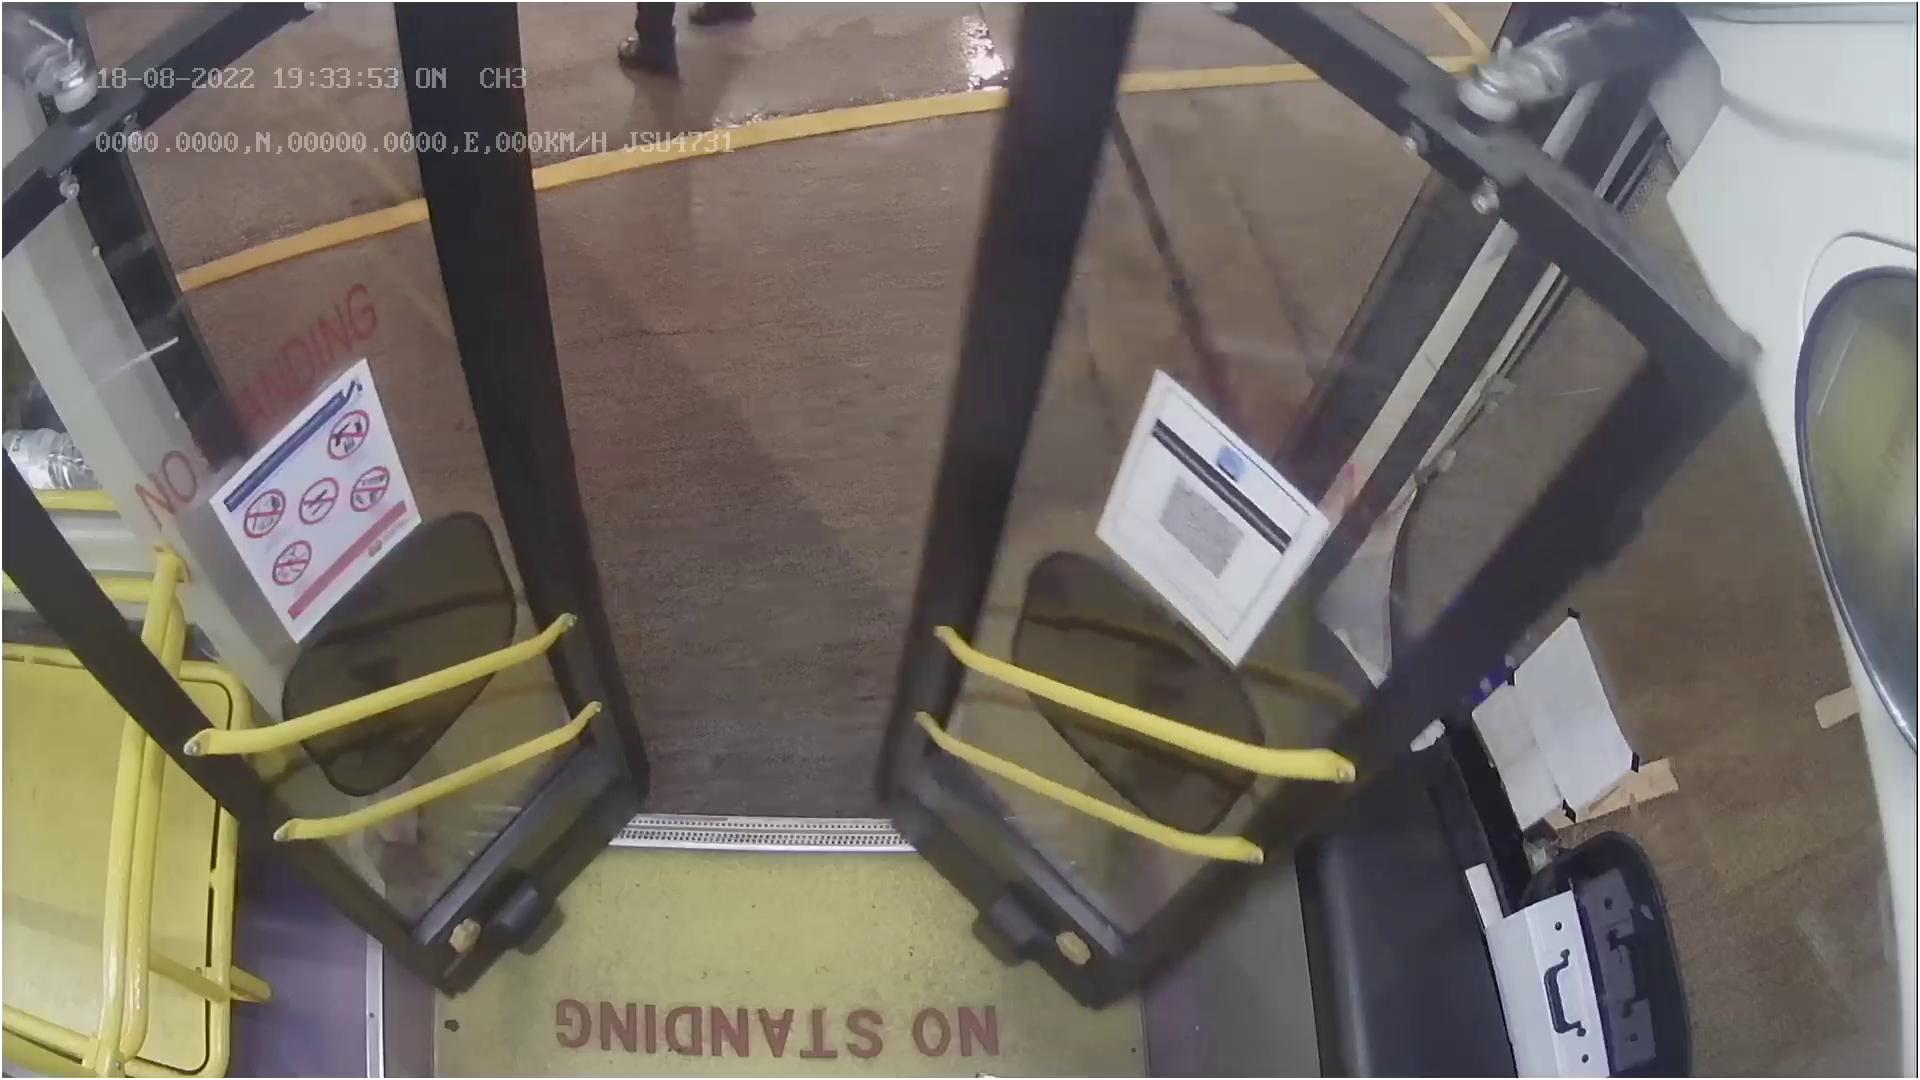open: (120, 0, 1486, 185)
